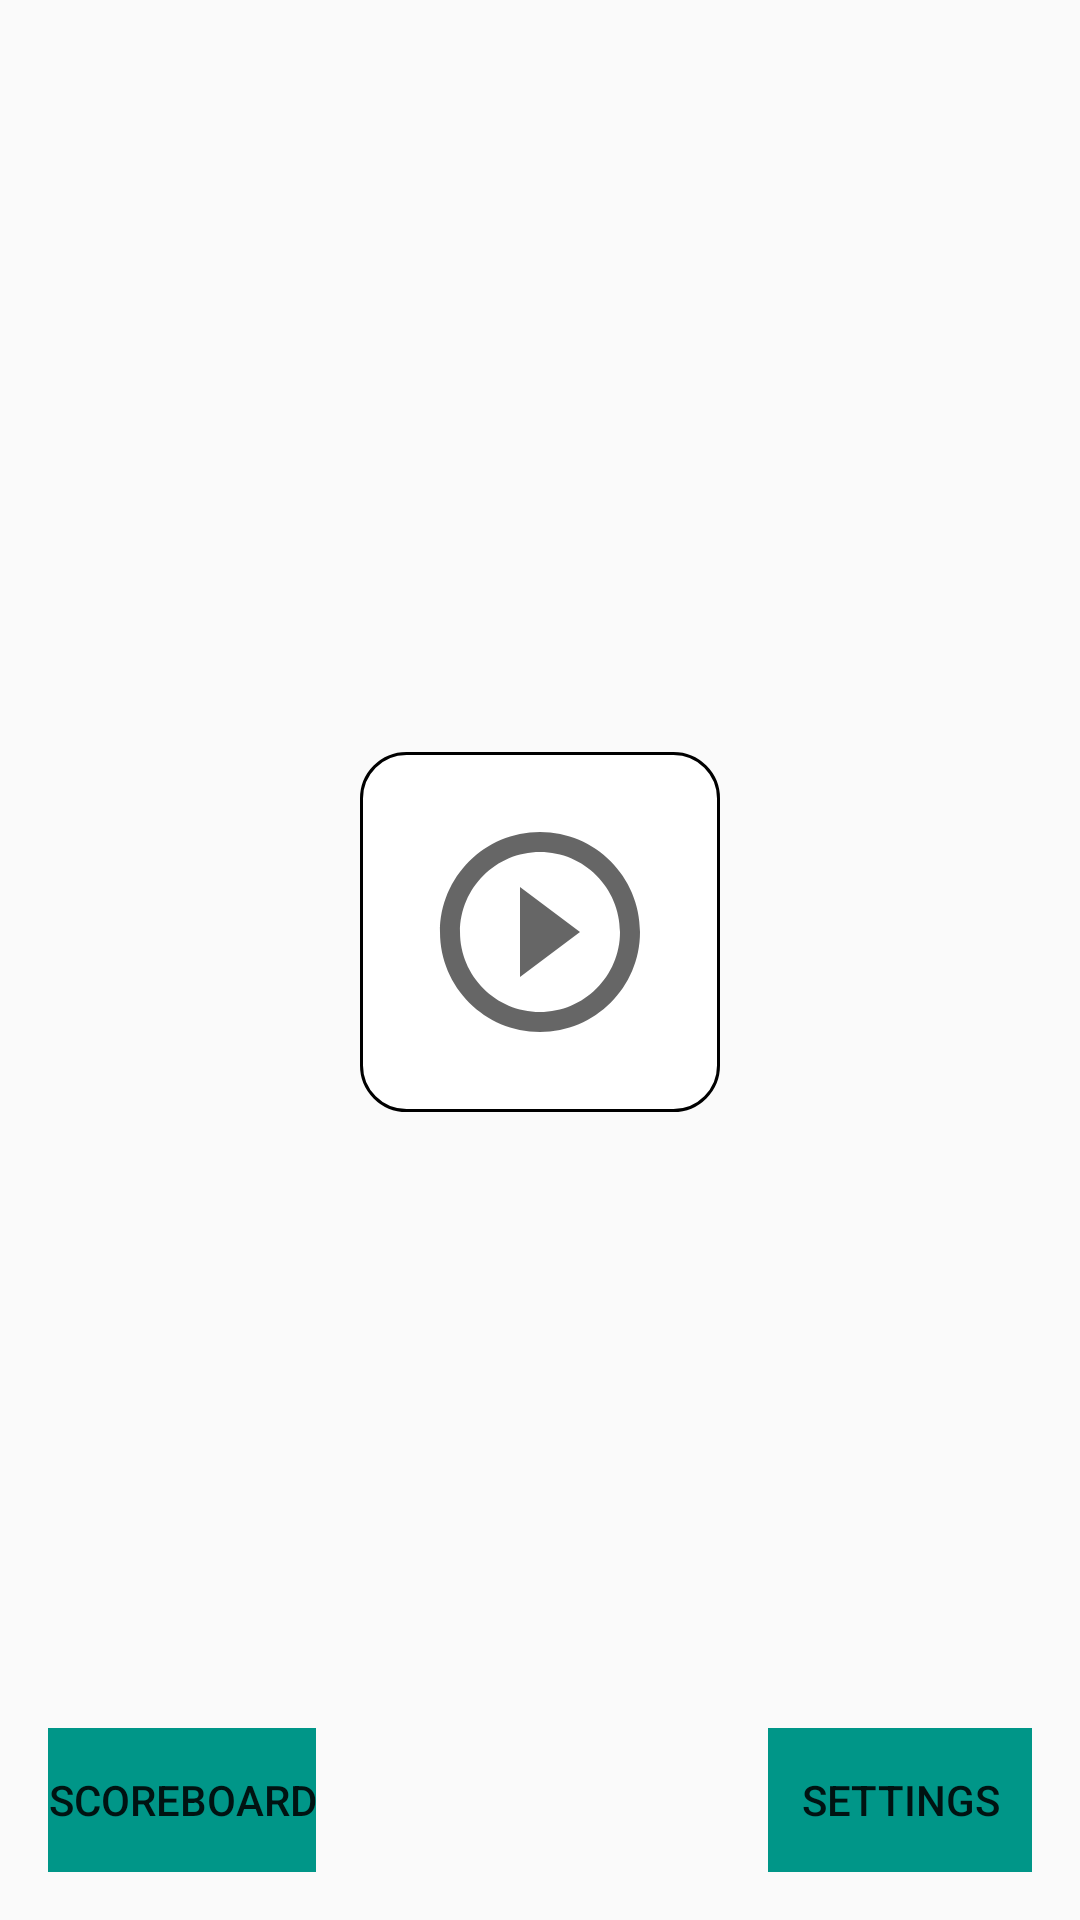

Icons on this 1080px x 1920px Android screen, each with the point to tap as (x,y):
play circle: (540,932)
